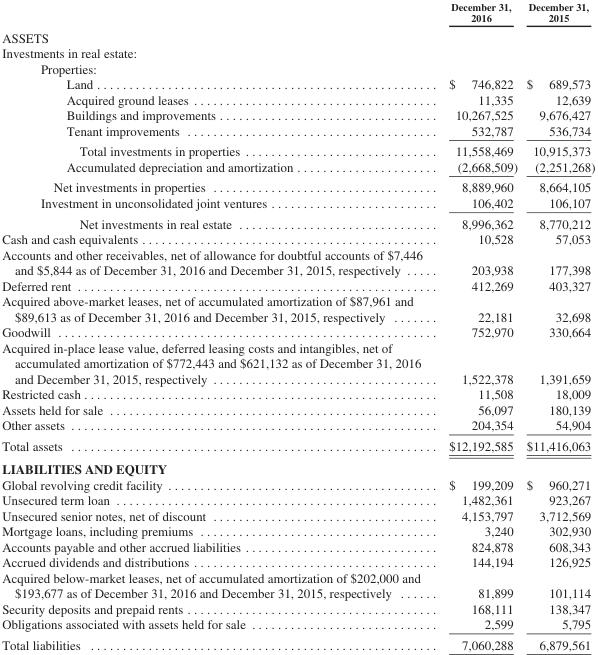table: (1, 0, 594, 651)
table column: (1, 0, 435, 651), (435, 0, 521, 651), (521, 0, 594, 651)
table column header: (1, 0, 594, 26)
table projected row header: (1, 456, 594, 476), (1, 26, 594, 44), (1, 44, 594, 60), (1, 60, 594, 75)
table row: (1, 339, 594, 385), (1, 246, 594, 277), (1, 292, 594, 323), (1, 569, 594, 600), (1, 0, 594, 26), (1, 435, 594, 456), (1, 456, 594, 476), (1, 416, 594, 435), (1, 615, 594, 634), (1, 26, 594, 44), (1, 122, 594, 140), (1, 140, 594, 158), (1, 158, 594, 176), (1, 176, 594, 194), (1, 194, 594, 212), (1, 212, 594, 230), (1, 634, 594, 651), (1, 44, 594, 60), (1, 75, 594, 91), (1, 106, 594, 122), (1, 230, 594, 246), (1, 323, 594, 339), (1, 385, 594, 401), (1, 491, 594, 507), (1, 522, 594, 538), (1, 553, 594, 569), (1, 60, 594, 75), (1, 91, 594, 106), (1, 277, 594, 292), (1, 401, 594, 416), (1, 476, 594, 491), (1, 507, 594, 522), (1, 538, 594, 553), (1, 600, 594, 615)
